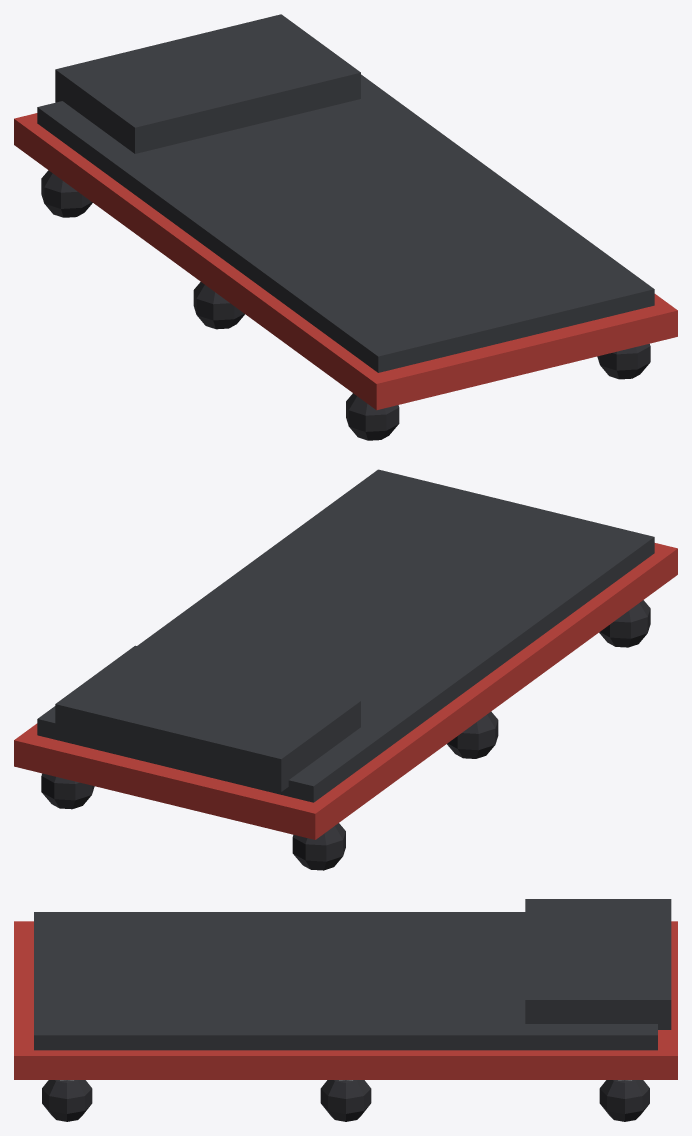
File: creeper.glb
The picture shows the model from 3 angles, top to bottom: view 1: azimuth 30°, elevation 25°; view 2: azimuth 150°, elevation 25°; view 3: azimuth 270°, elevation 25°; orthographic projection. The views are drawn at different scales.
Visible parts, largest first — view 1: creeper; view 2: creeper; view 3: creeper.
Boxes of the visible parts, x1,y1,x2,y2 form: creeper: [14, 14, 677, 440]; creeper: [14, 469, 677, 870]; creeper: [14, 899, 677, 1121].
Bounding box in the file's own units: 0.48 × 0.19 × 1.
